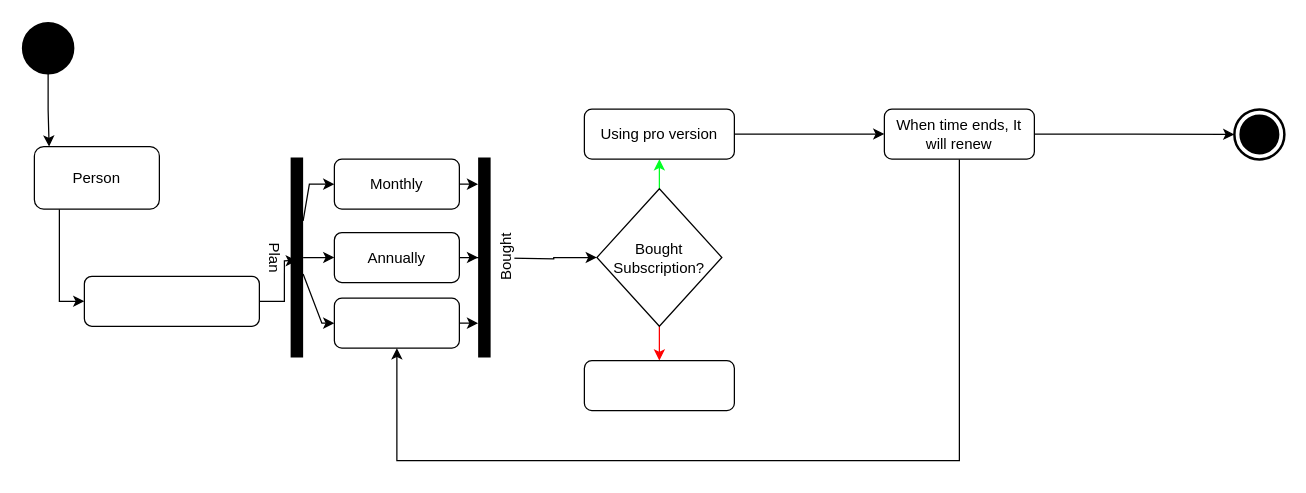
The diagram is 1306 pixels wide and 493 high, and some of its shapes have lost their labels. The centre of each missing label's shape, as x and y in pixels:
Account: (171,300)
Free: (396,322)
Using limited version: (658,385)
